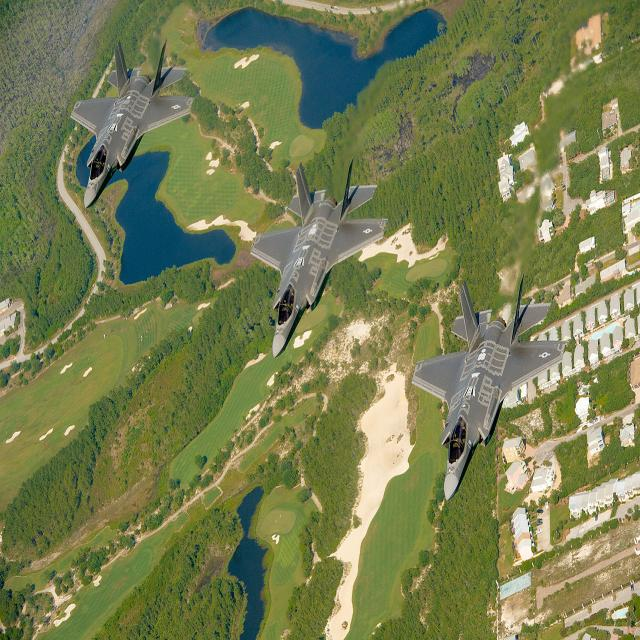MIL_Plane: (411, 271, 568, 502), (250, 156, 390, 358), (70, 37, 196, 210)
